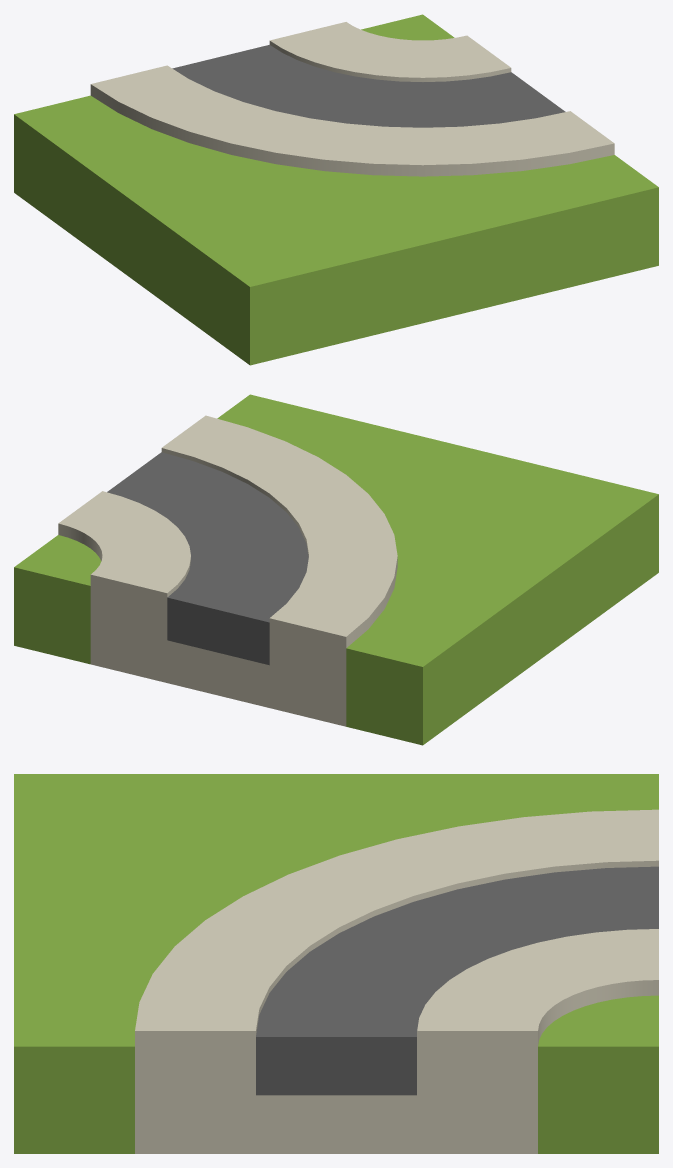
The model's file is roadTile_155.fbx.
3 renders of one model, top to bottom at view 1: azimuth 30°, elevation 25°; view 2: azimuth 150°, elevation 25°; view 3: azimuth 270°, elevation 25°, orthographic. The views are drawn at different scales.
Parts seen in each view (by area): view 1: roadTile_155; view 2: roadTile_155; view 3: roadTile_155.
Part boxes in pixels (<box>): roadTile_155: <box>14,14,658,365</box>; roadTile_155: <box>14,394,658,745</box>; roadTile_155: <box>14,774,658,1153</box>.
Bounding box in the file's own units: 118 × 24.8 × 118.
